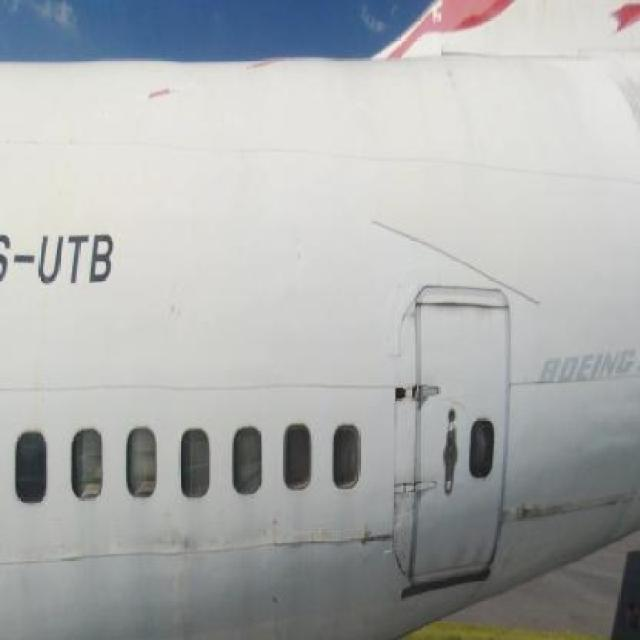Rust: (516, 498, 624, 524), (431, 299, 504, 324)
Scartch: (144, 78, 190, 110), (158, 533, 204, 564), (614, 72, 640, 116), (358, 533, 396, 550)
